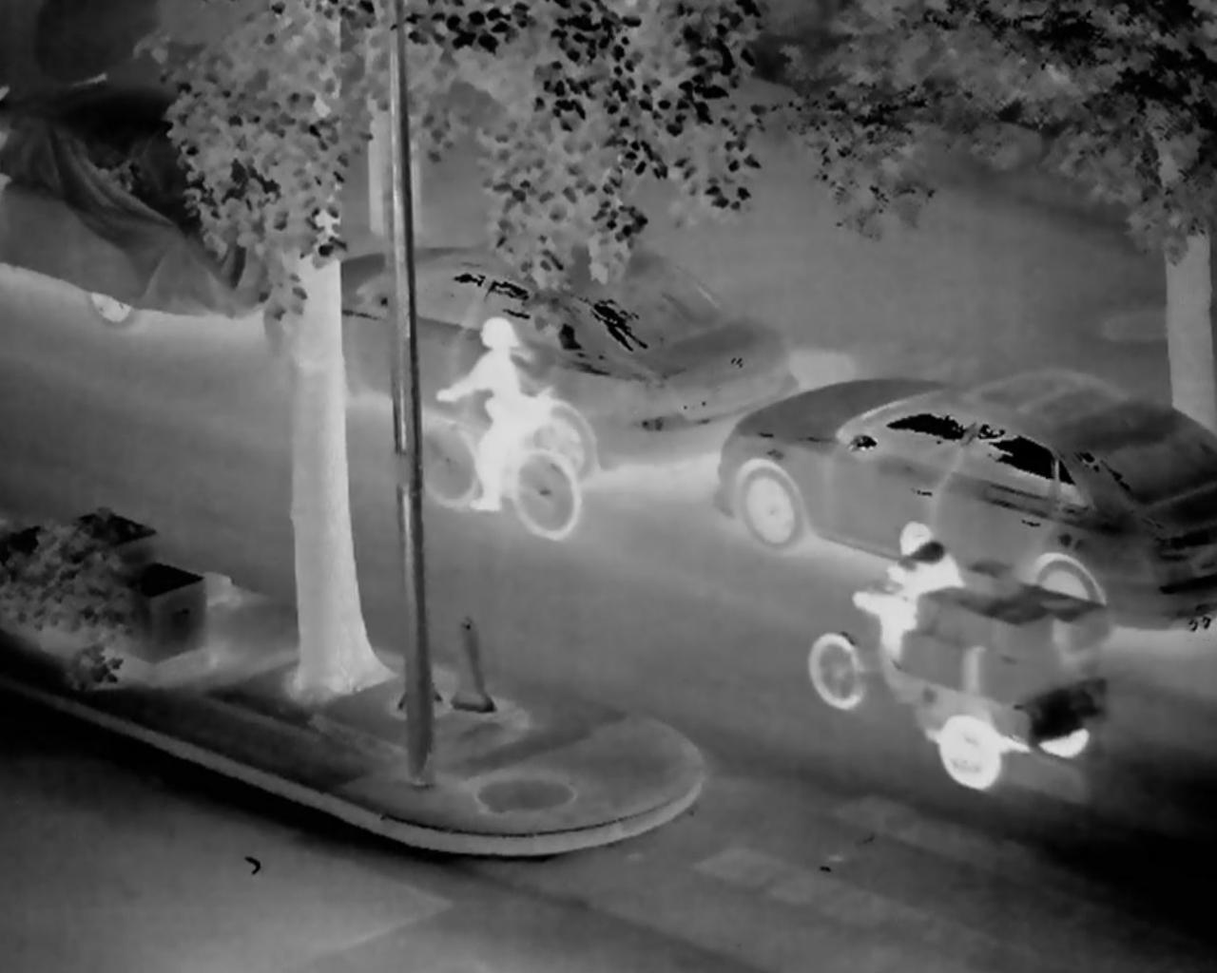person: (425, 311, 572, 533), (864, 513, 981, 715)
